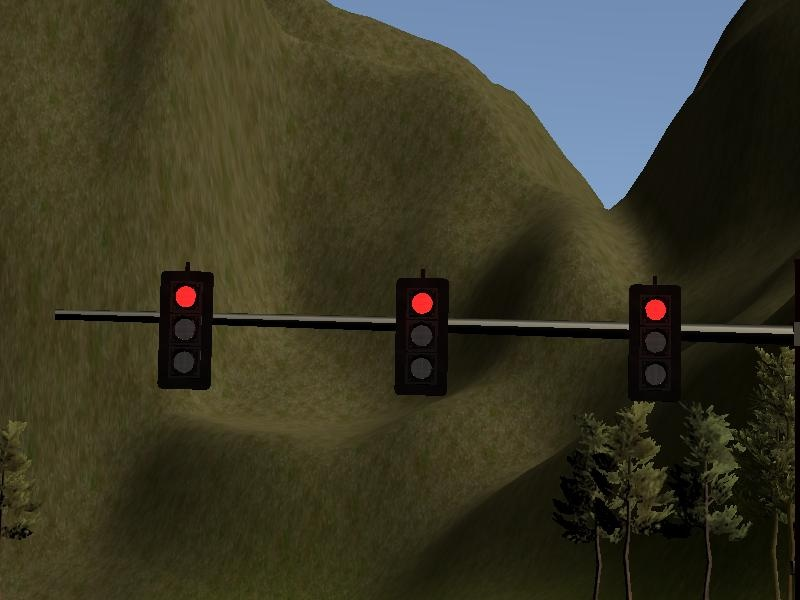red: (395, 276, 447, 395), (160, 269, 211, 388), (627, 286, 678, 403)
